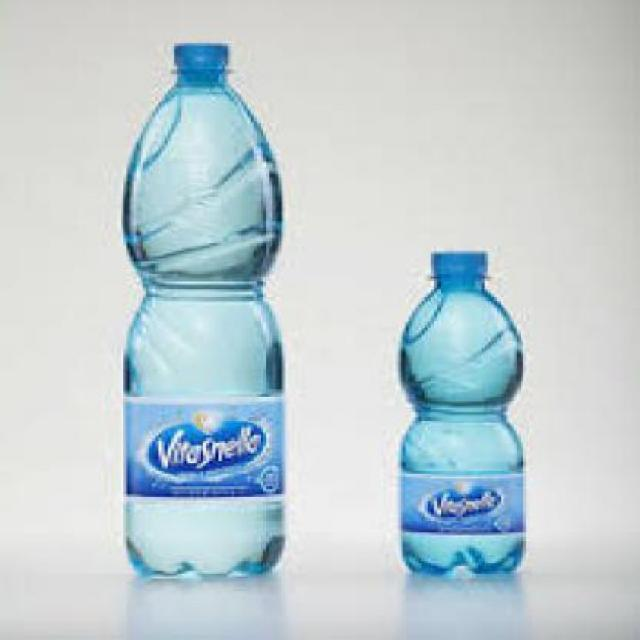bottle: (121, 44, 287, 579), (396, 252, 526, 578)
